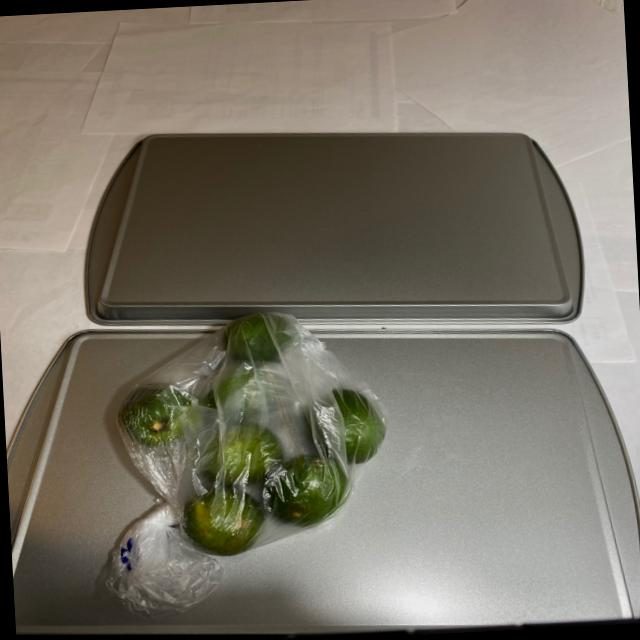lemon: (106, 305, 392, 586)
